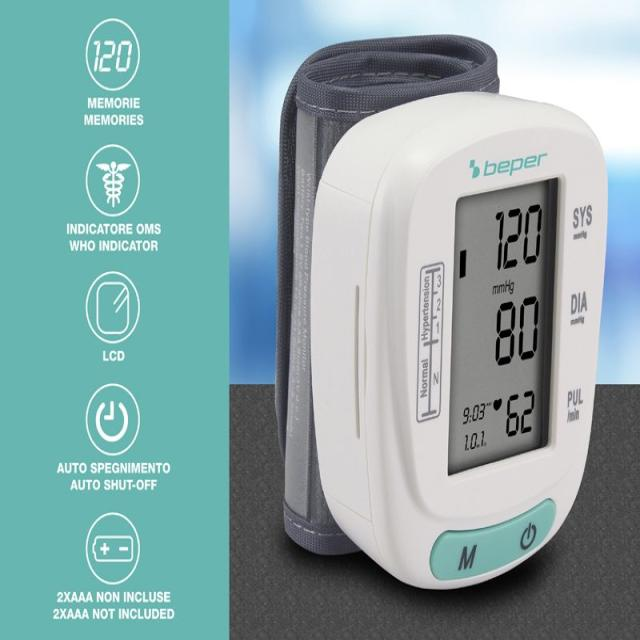dia: (489, 288, 542, 373)
pul: (499, 383, 541, 451)
ssd: (448, 175, 559, 478)
sys: (477, 195, 560, 277)
